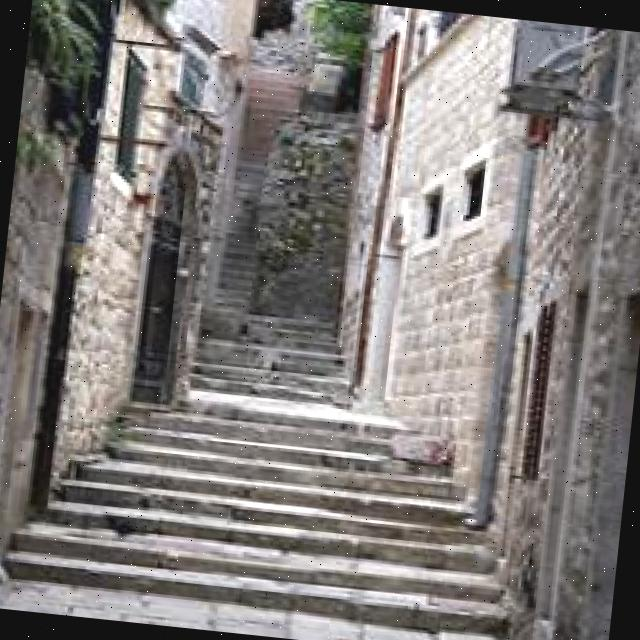stairs: (9, 192, 577, 640)
